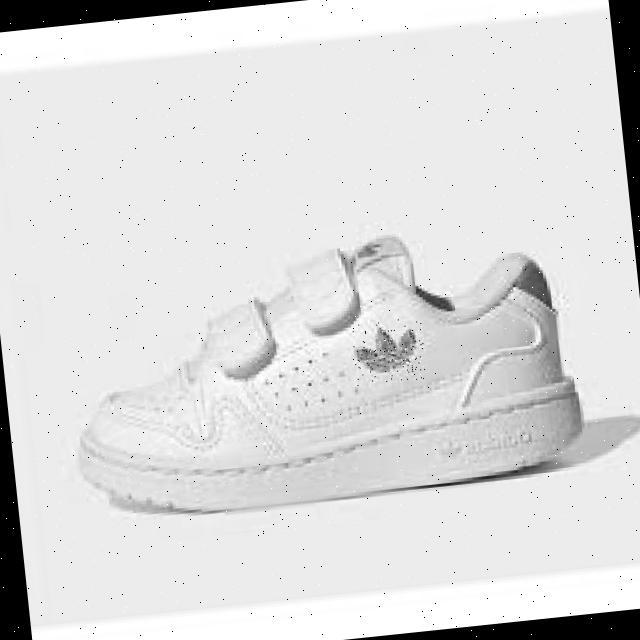Adidas: (351, 317, 428, 386)
